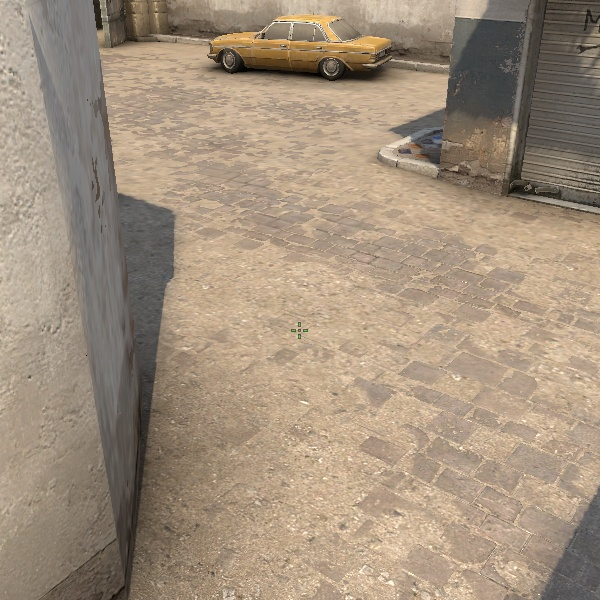ct_body: (154, 19, 600, 195)
